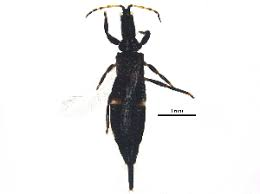Phlaeothripidae: (57, 3, 196, 191)
